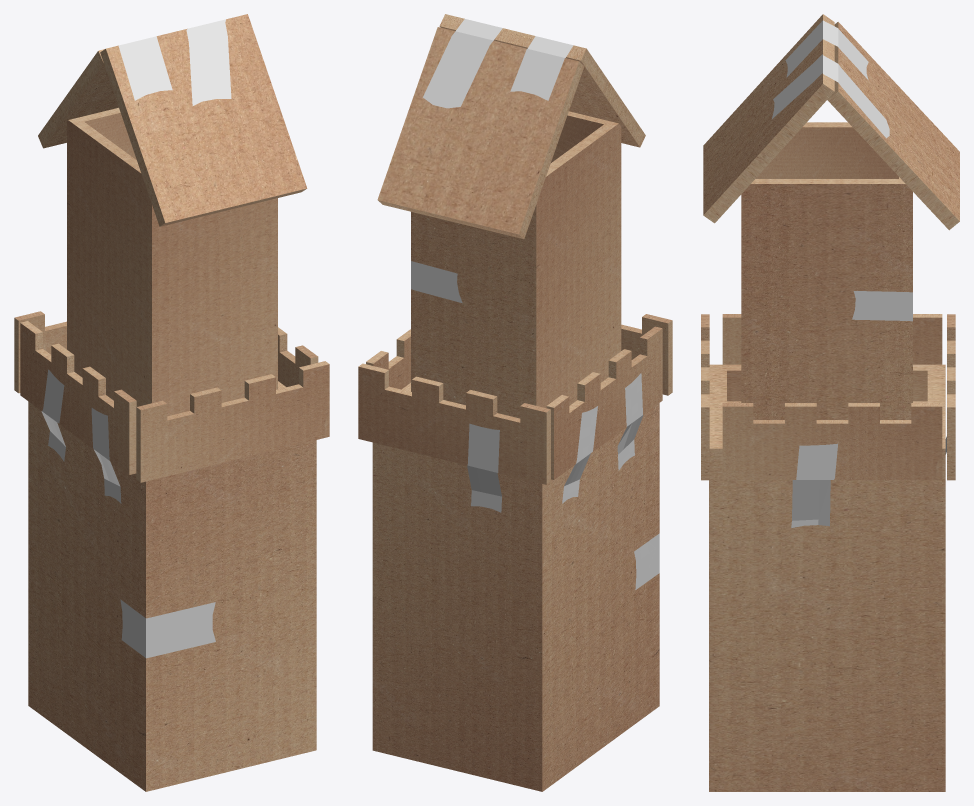
File: Cardboard_tower.fbx
The picture shows the model from 3 angles, left to right: view 1: azimuth 30°, elevation 25°; view 2: azimuth 150°, elevation 25°; view 3: azimuth 270°, elevation 25°; orthographic projection.
Visible parts, largest first — view 1: Cardboard_tower; view 2: Cardboard_tower; view 3: Cardboard_tower.
Boxes of the visible parts, x1,y1,x2,y2 form: Cardboard_tower: [14, 14, 329, 791]; Cardboard_tower: [358, 14, 672, 791]; Cardboard_tower: [701, 14, 959, 791].
Bounding box in the file's own units: 25.19 × 88.55 × 29.59.
